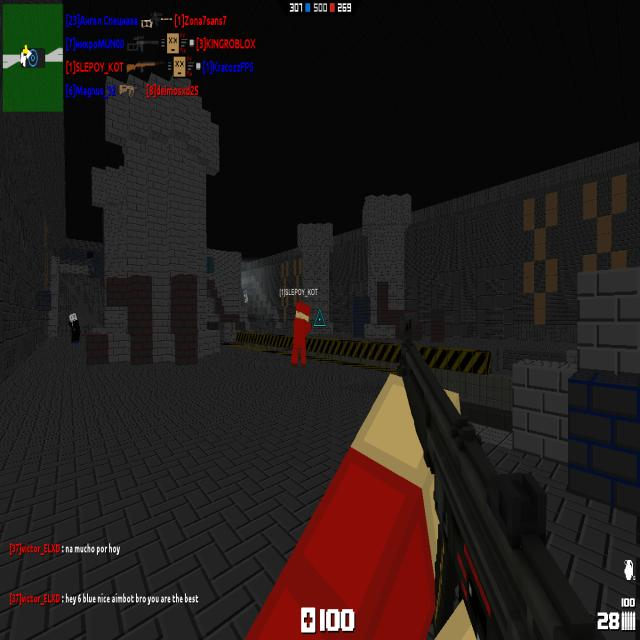enemy: (68, 312, 80, 344), (86, 264, 94, 279), (244, 289, 248, 303)
